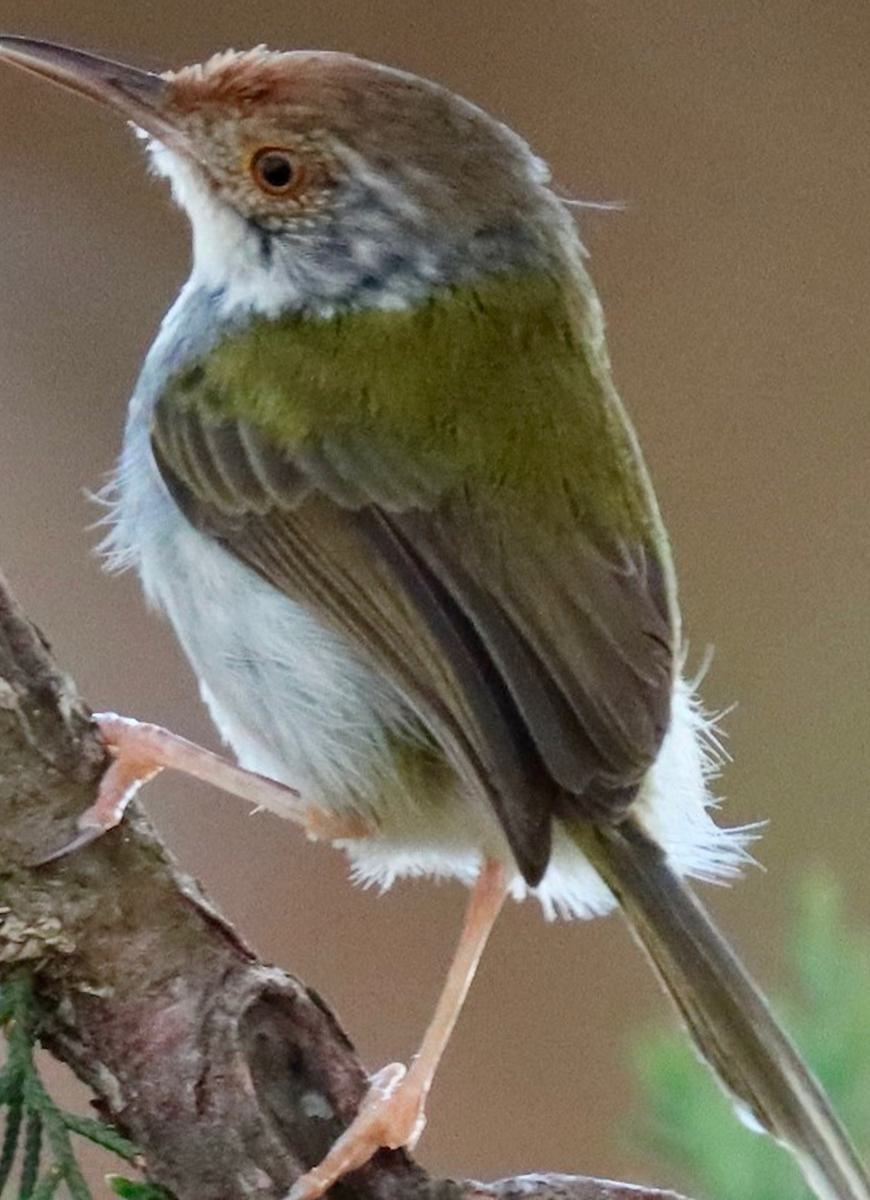tailorbird: (5, 21, 780, 1062)
